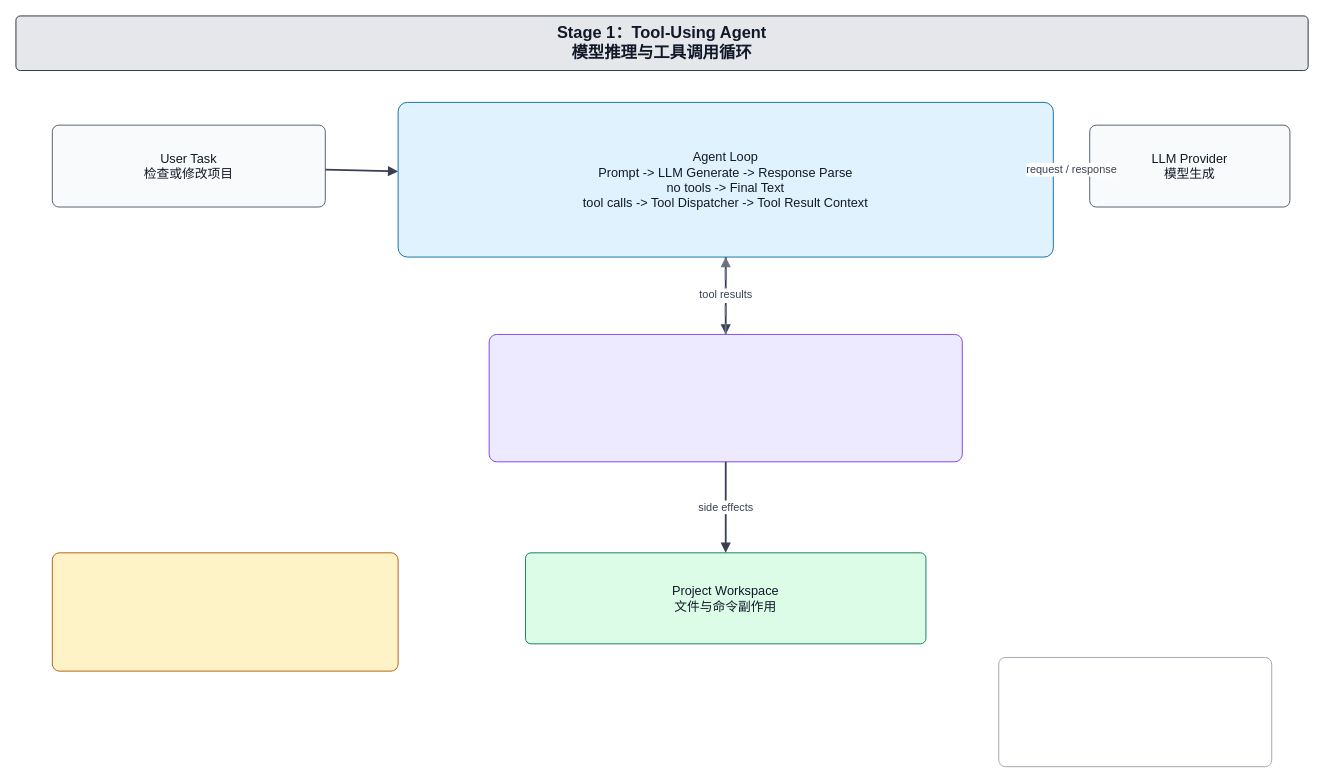
This 1324x783 diagram has some shape labels left out. The shapes that lost their labels are listed below. From the top down, each one's centre as x and y in pixels, then its label:
At (725,398): "Initial Tool Surface File Read File Write / Edit Shell Command".
At (224,611): "新增边界 模型只能提出结构化工具请求 本地副作用由调度器统一执行 后续权限和观测建立在此边界上".
At (1135,712): "图例 实线：主要控制流 虚线：状态 / 观测 / 治理 双向：外部协议交互".
